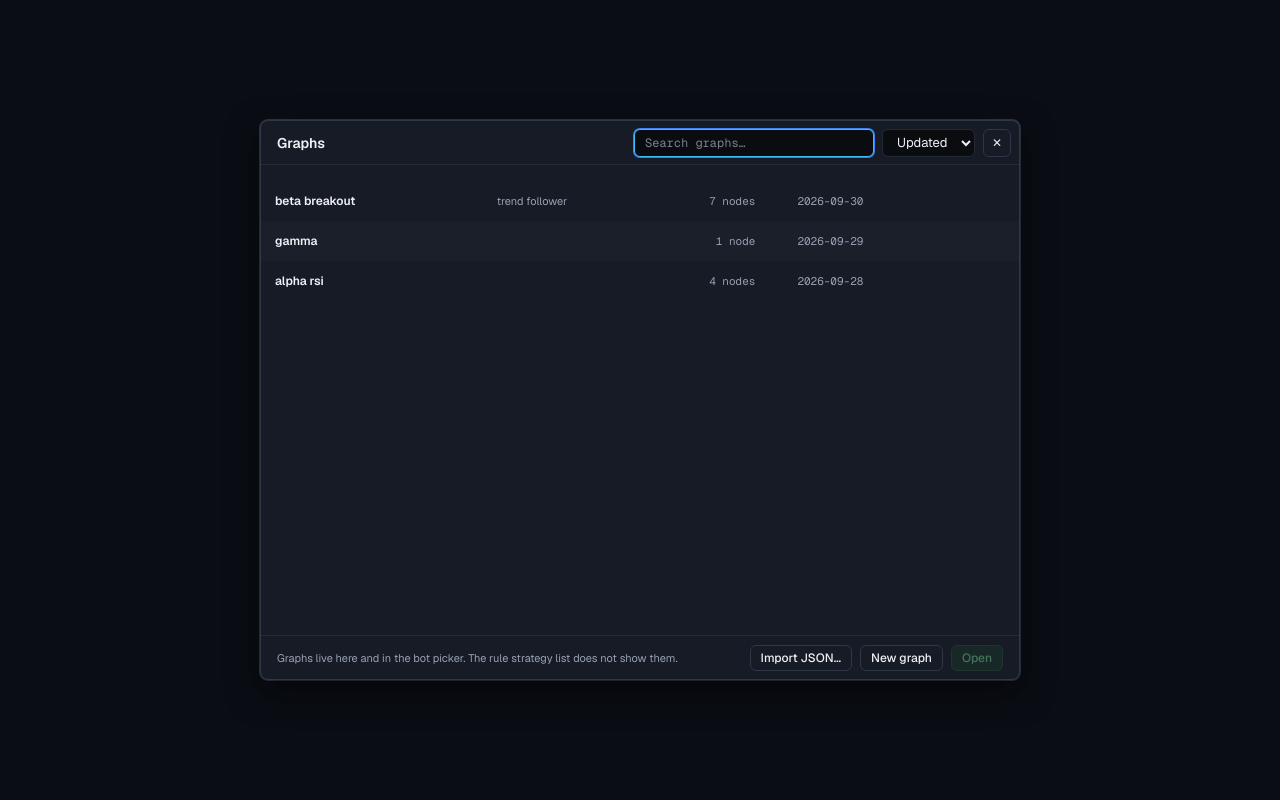
Test: GraphBrowser › asks to save a dirty graph before opening another, and Cancel keeps the browser
The image size is (1280, 800).
Double-click the option with test id "nb-browser-row-g_a": (299, 281) [275,273,863,289]
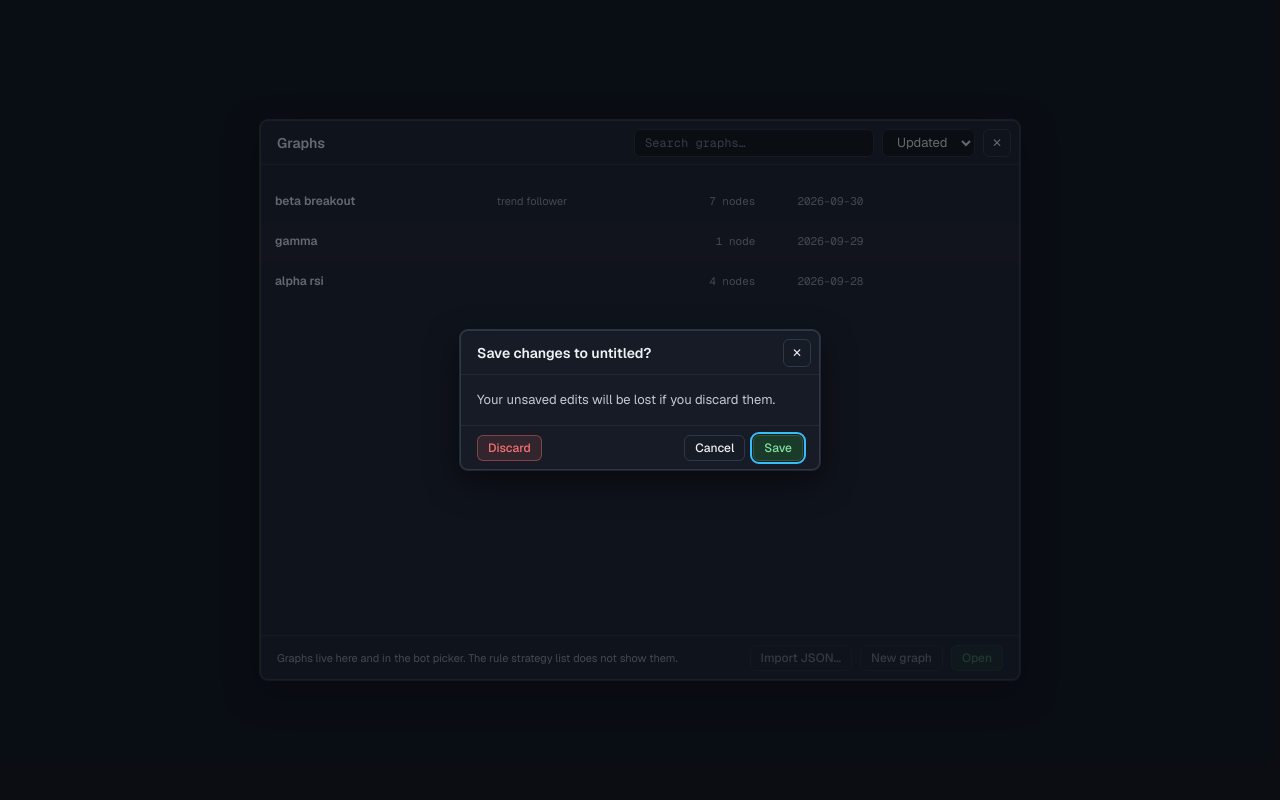
Result: the dialog with test id "nb-save-changes-dialog" shows "Save changes to untitled?" at [477,344,652,362]
Click the button "Cancel": (715, 448) [684,434,745,460]
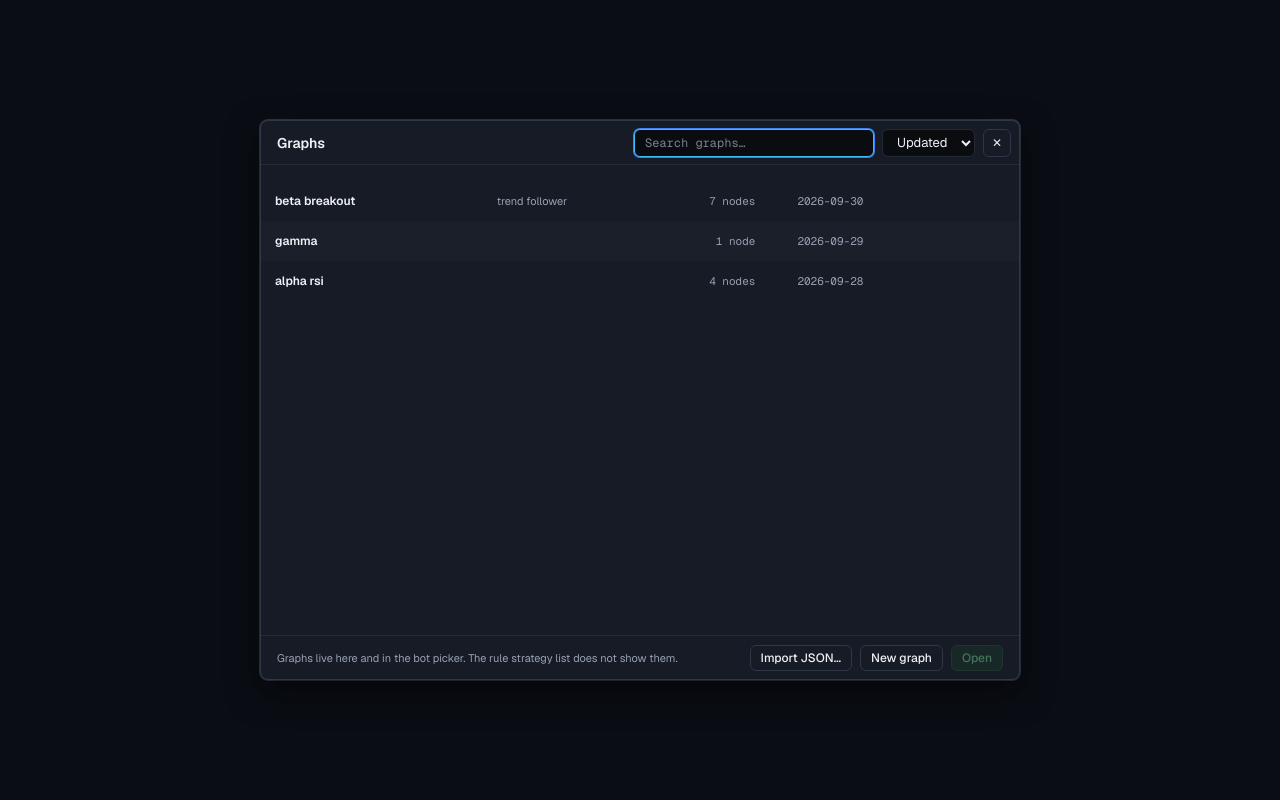
Expected: the dialog with test id "nb-graph-browser" is shown, [260,120,1020,680]
Result: the dialog with test id "nb-save-changes-dialog" is gone
